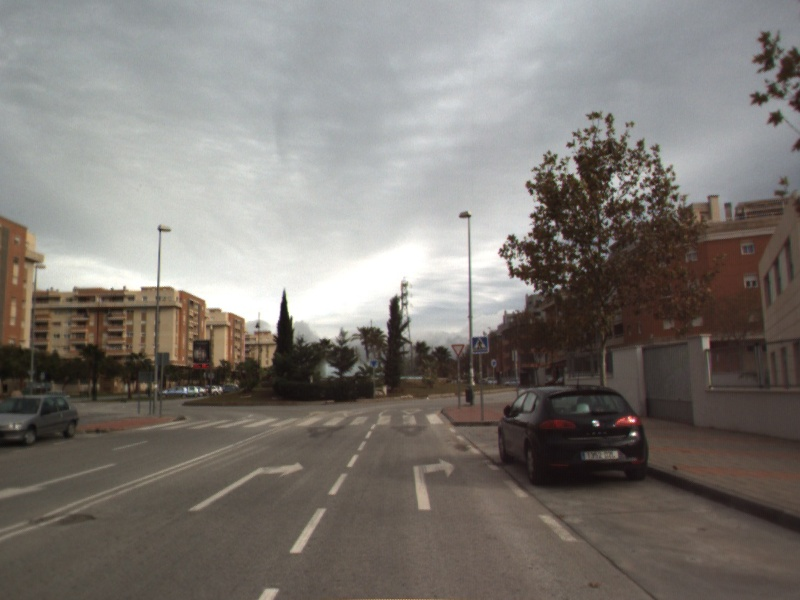RIGHT: (186, 460, 306, 513), (411, 456, 458, 511)
